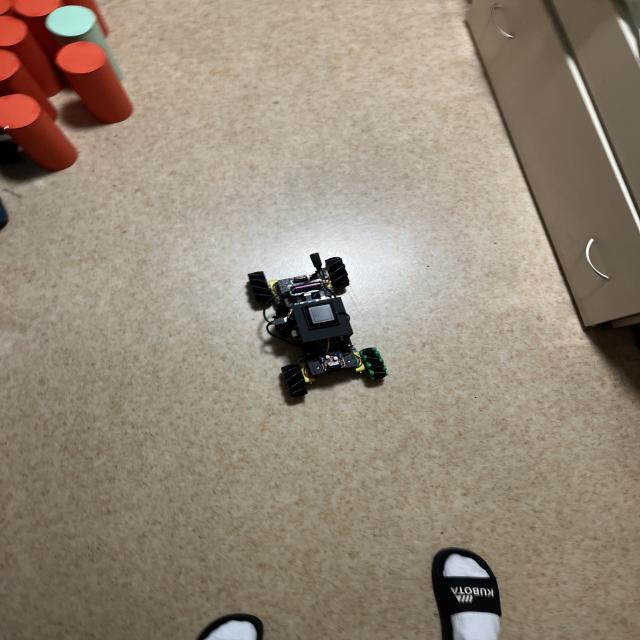robot: (248, 253, 387, 397)
